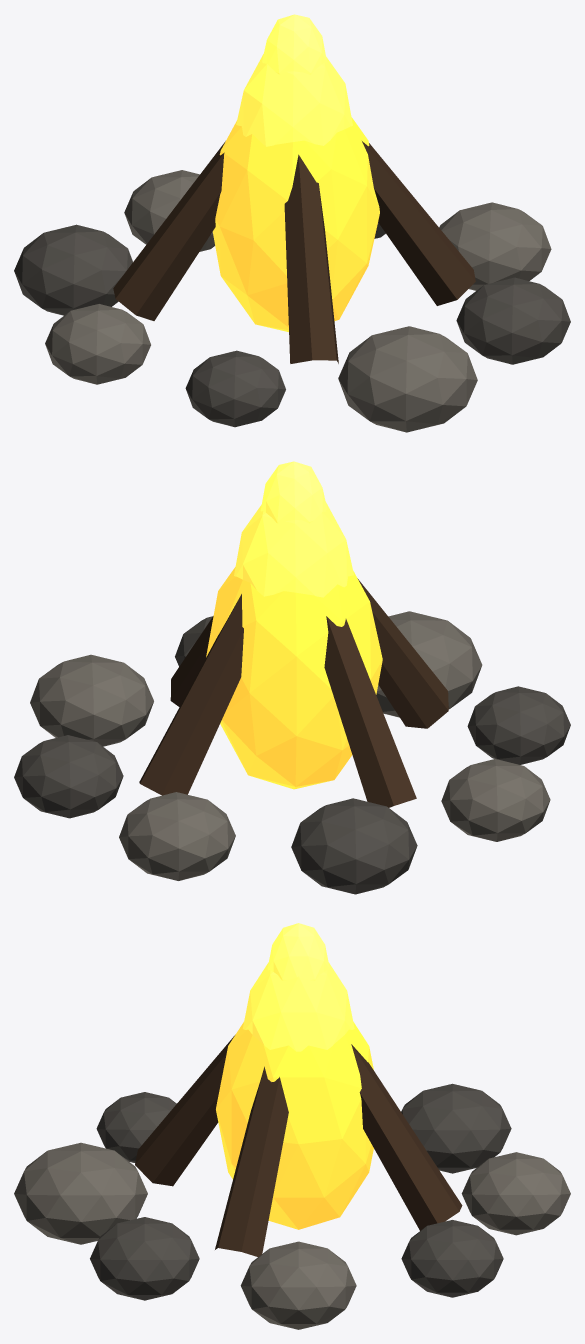
The model's file is campfire.glb.
3 views of the same model, one above another, from view 1: azimuth 30°, elevation 25°; view 2: azimuth 150°, elevation 25°; view 3: azimuth 270°, elevation 25° (orthographic). The views are drawn at different scales.
Visible parts, largest first — view 1: campfire; view 2: campfire; view 3: campfire.
Boxes of the visible parts, x1,y1,x2,y2 form: campfire: (14, 14, 570, 432); campfire: (14, 461, 570, 894); campfire: (14, 923, 570, 1329).
Size of the model in its own units: 1.05 by 0.6666 by 1.07.
